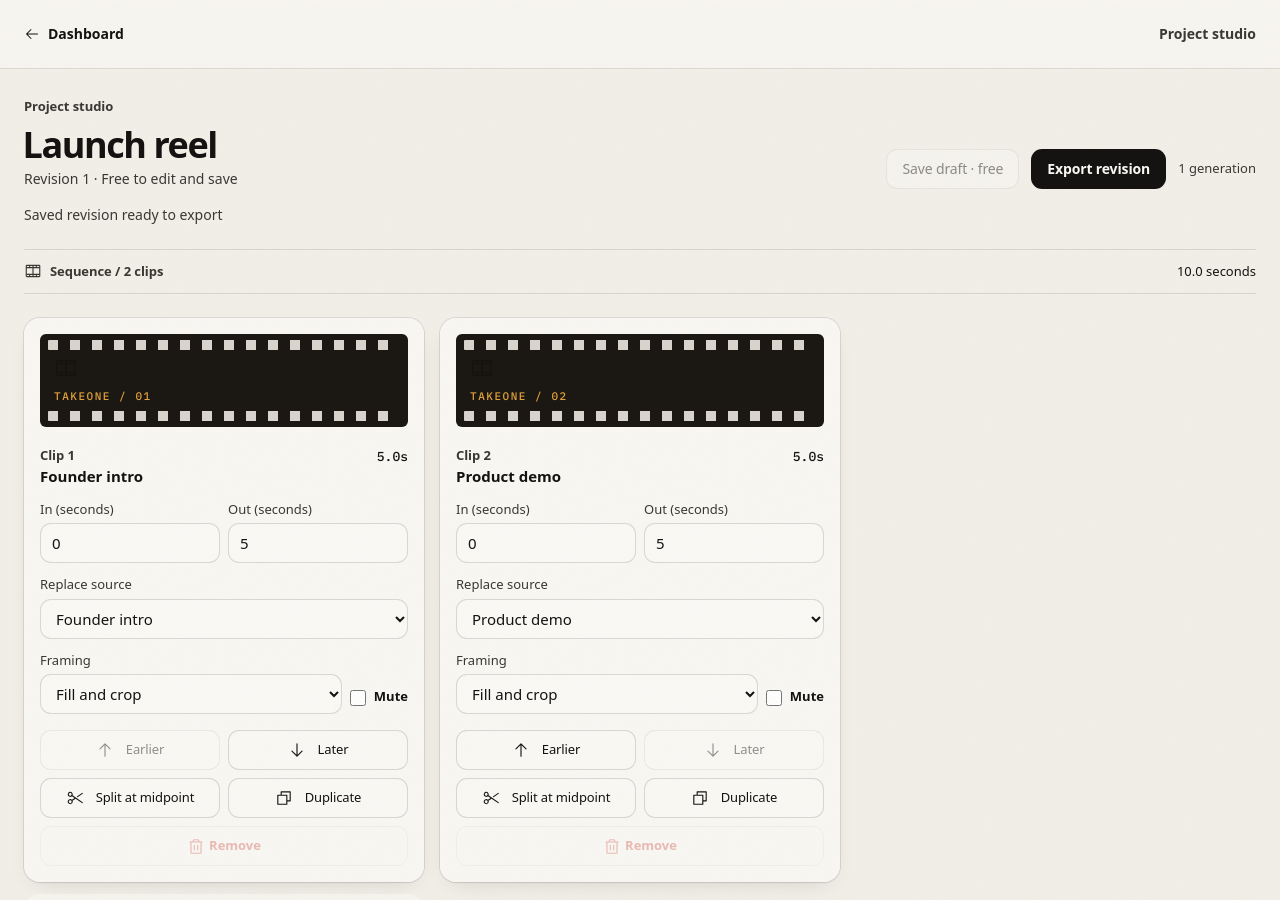
a revision conflict keeps local edits visible and blocks export
This screenshot has width=1280, height=900.
Step 1. Click the button with aria-label "Move clip 2 Product demo earlier" → click(546, 750), box [456,730,636,770]
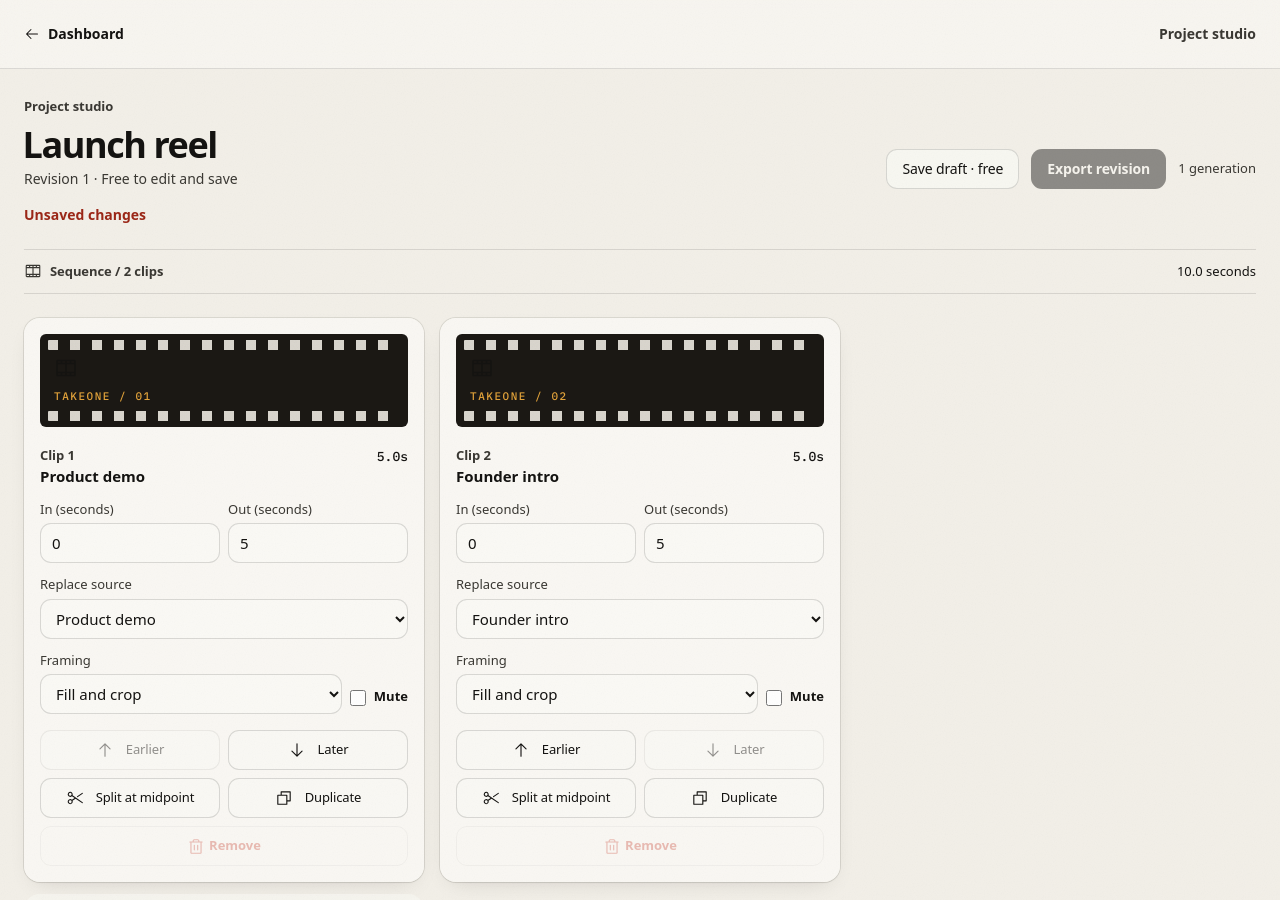
Step 2. Click the button "Save draft · free" → click(953, 168), box [886,148,1019,188]
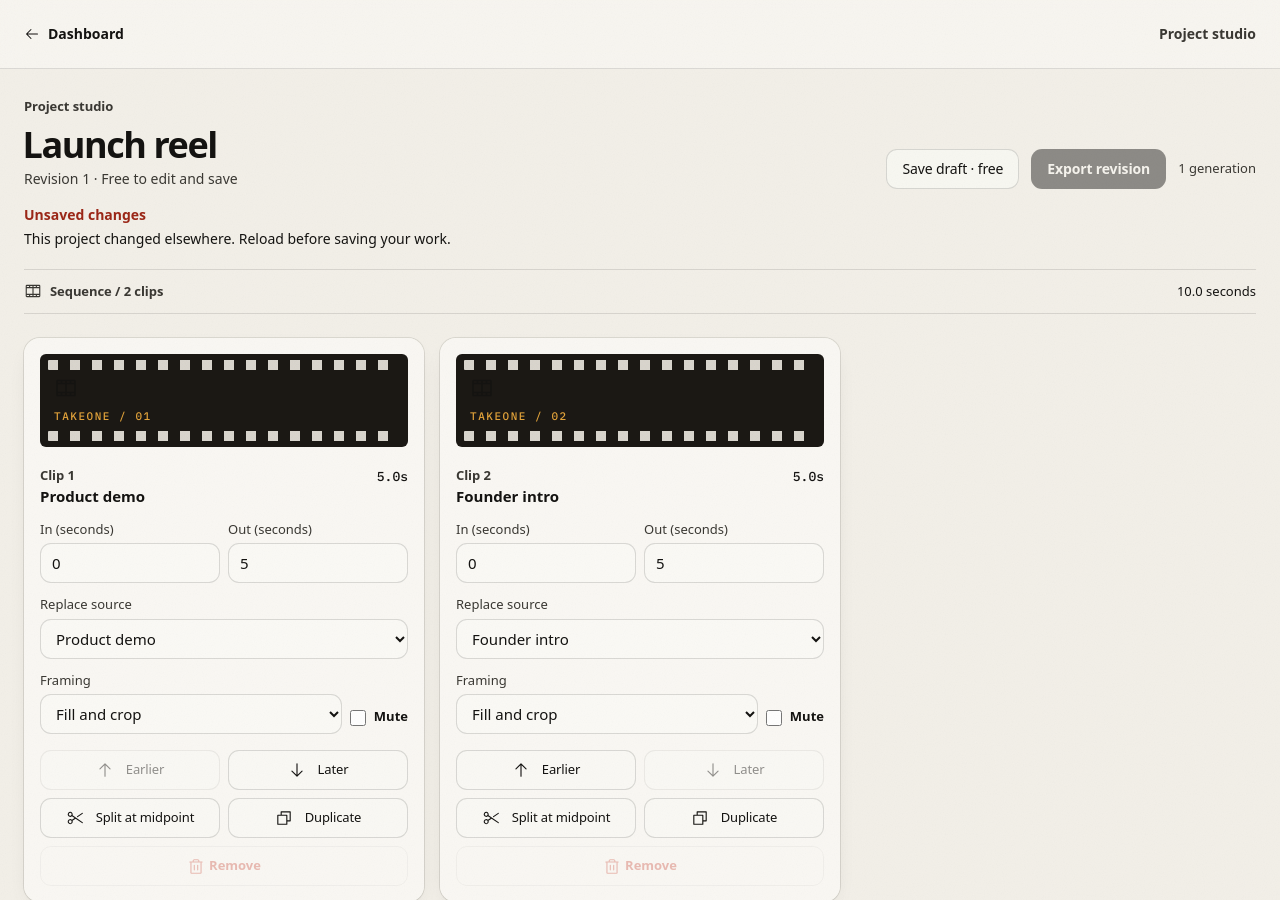
Check: the text "Unsaved changes" is shown, box [24,204,146,224]
Check: the button "Export revision" is disabled, box [1031,148,1166,188]
Check: the text "This project changed elsewhere. Reload before saving your work." is shown, box [24,228,451,248]
